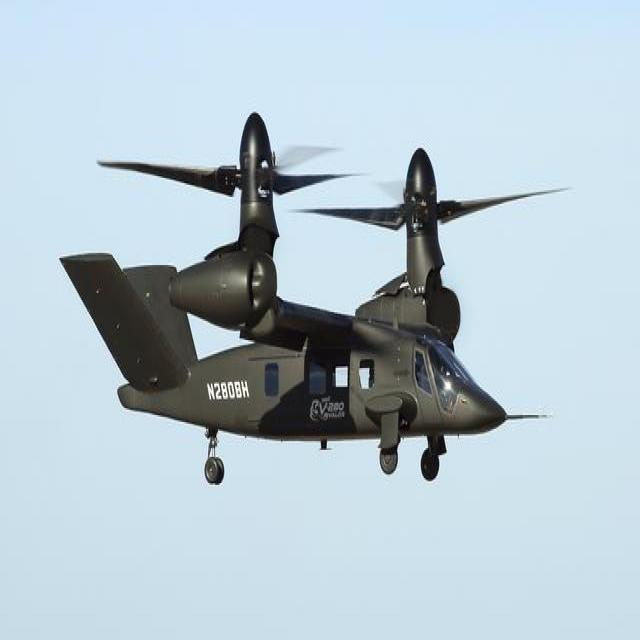MIL_HELO: (55, 110, 563, 492)
